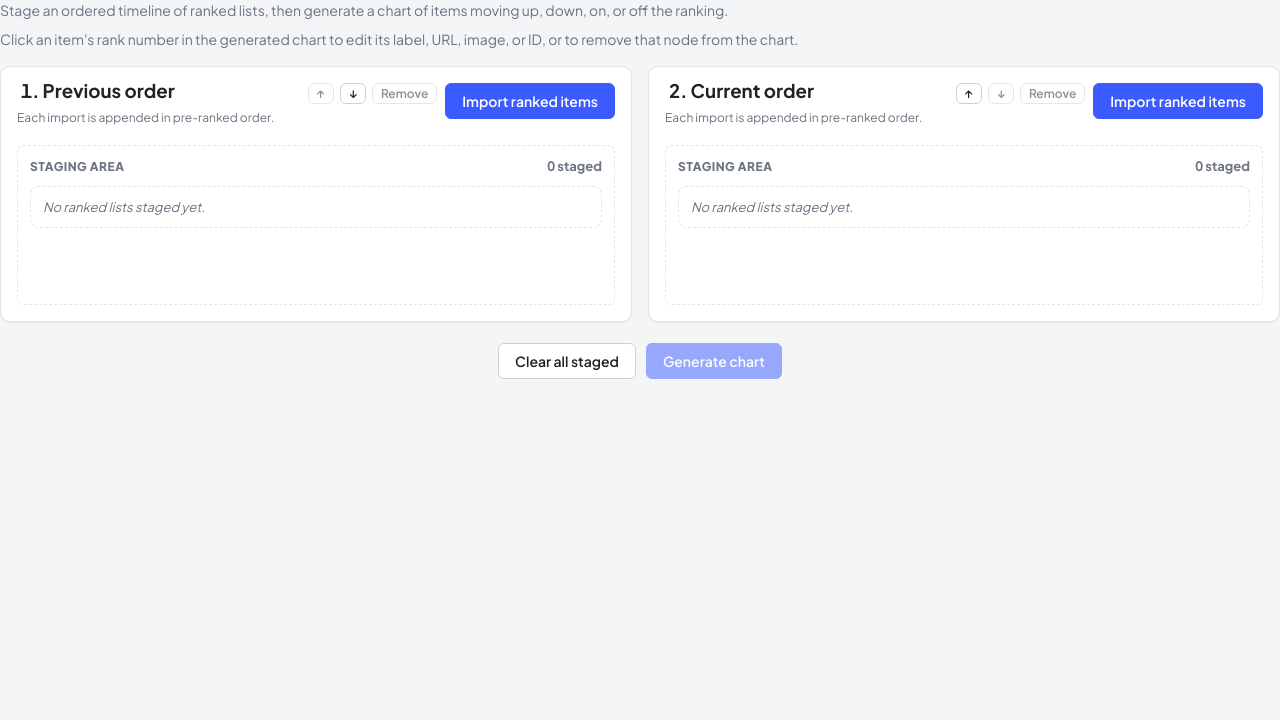
Test case: BumpChartPanel staging flow › imports two picked sort versions as columns, oldest first
Click the 2nd button "Import ranked items" at (1178, 101), box [1093, 83, 1263, 119]
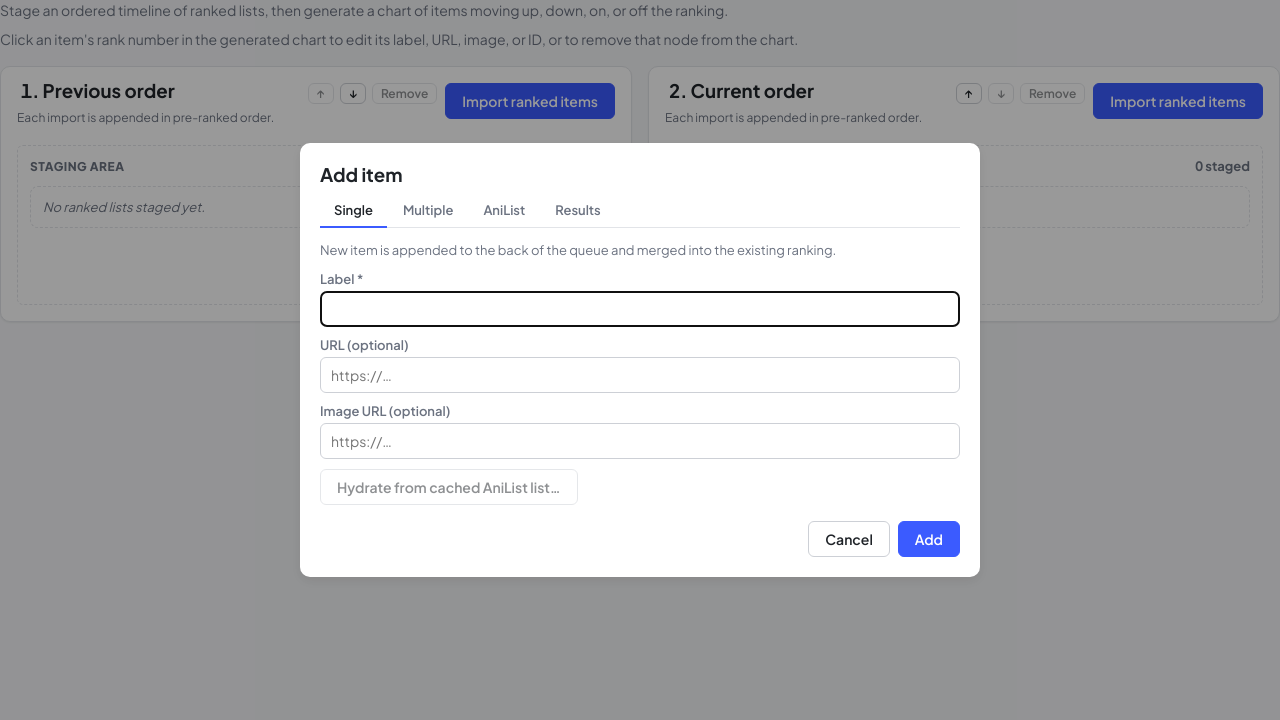
Click the tab "Results" at (578, 211), box [541, 194, 615, 228]
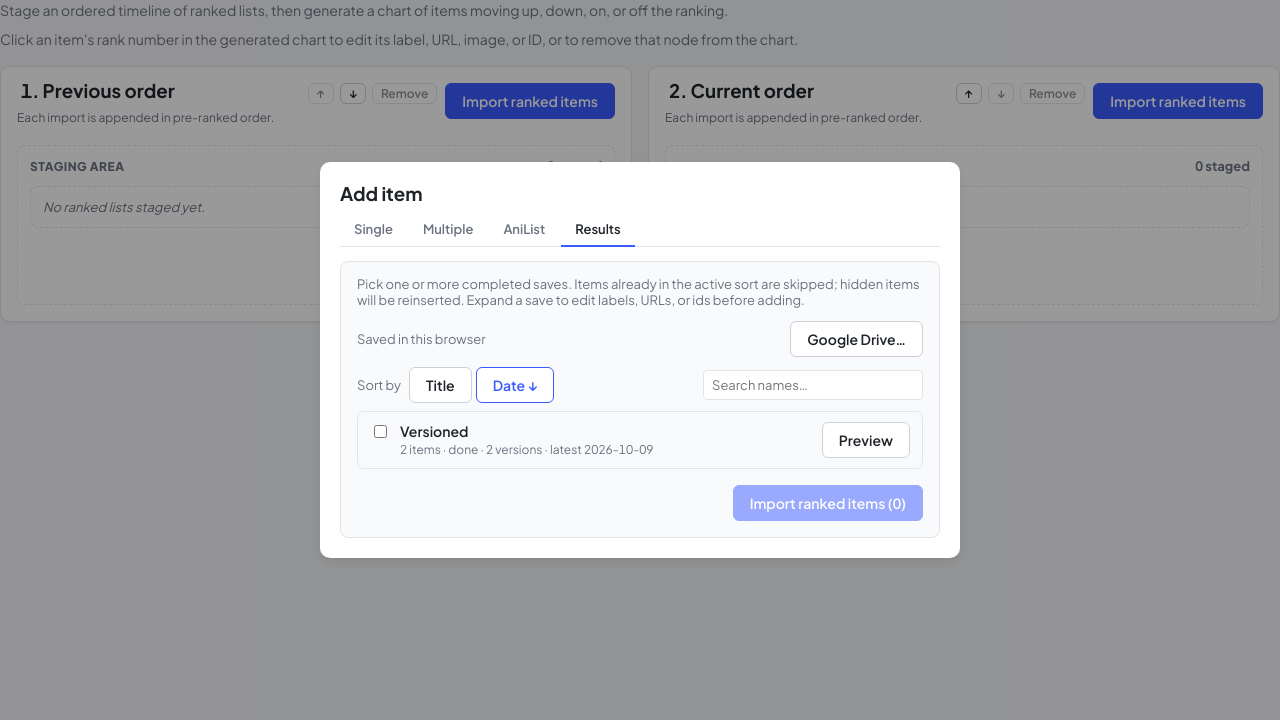
Click the checkbox named "Select Versioned" at (380, 432), box [374, 425, 387, 438]
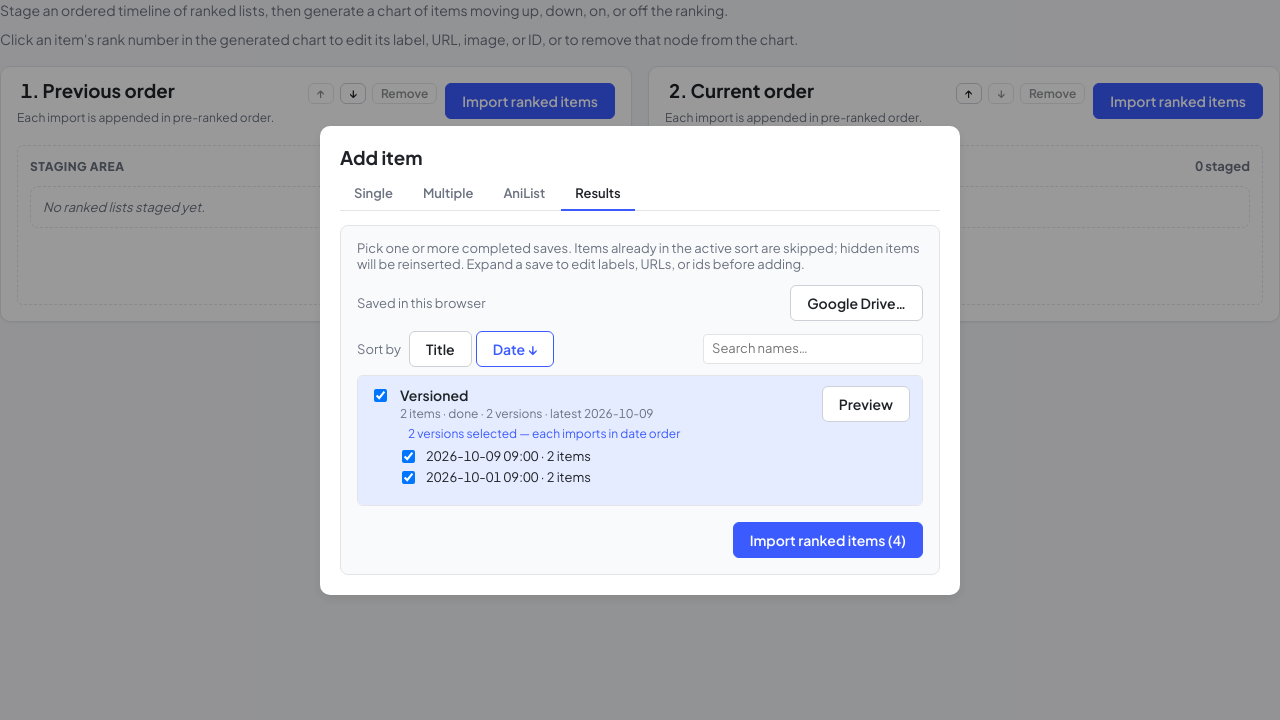
Click the button "Import ranked items (4)" at (828, 540), box [733, 522, 923, 558]
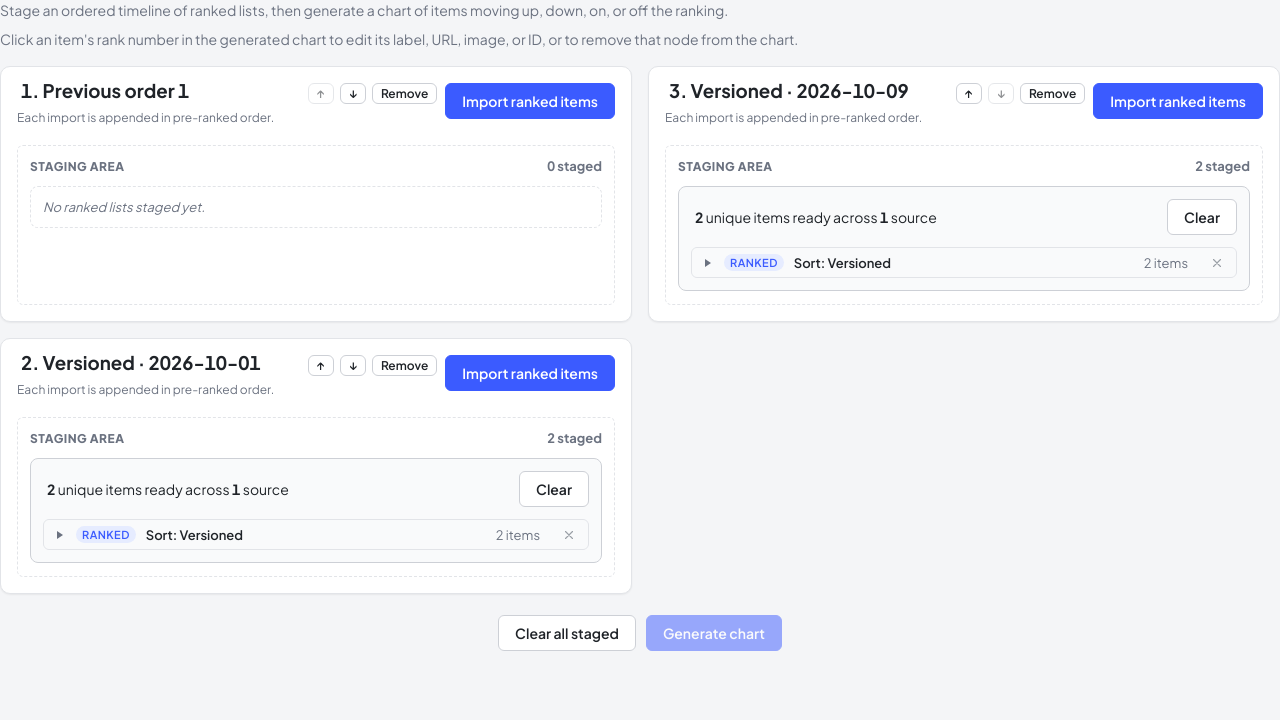
Expected: the element with class "bump-chart-import-card" shows "0 staged", [0, 66, 632, 322]
Now the element with class "bump-chart-import-card" shows "2 staged", box [0, 338, 632, 594]
